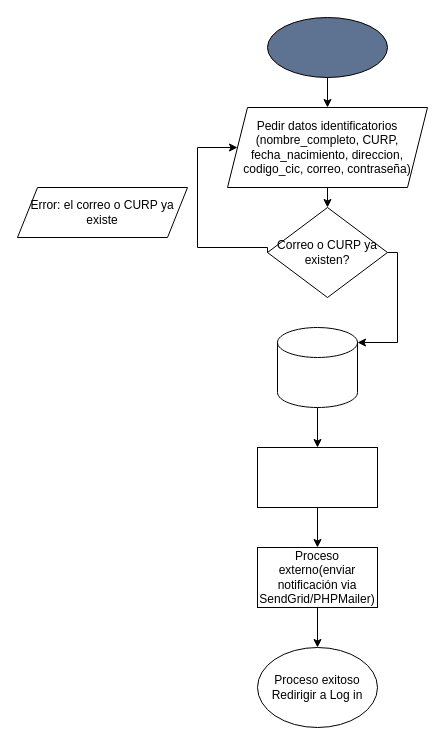
The diagram is 445 pixels wide and 745 high, and some of its shapes have lost their labels. The shapes that lost their labels are listed below. From the top down, each one's centre as x and y in pixels, then its label:
At point (327, 47): "Creación de cuenta".
At point (317, 367): "Usuario registrado".
At point (317, 477): "-Limpiar datos -verificar datos en DB -generar password_hash".
